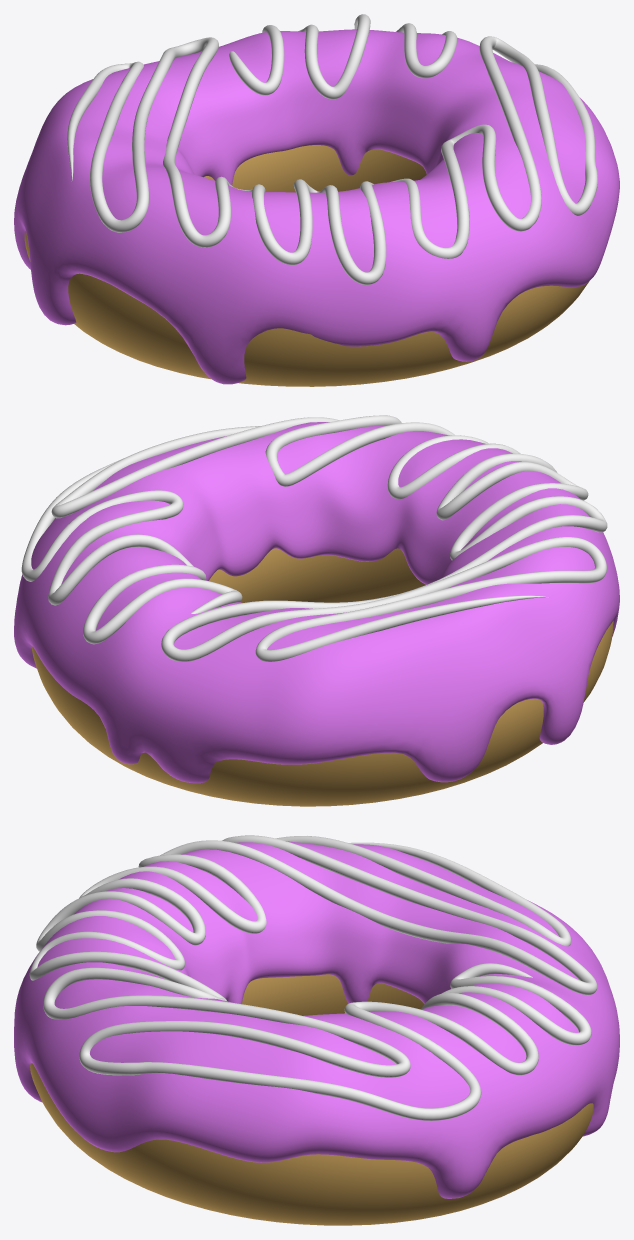
Rendered from doughnut_b4342345.glb.
The picture shows the model from 3 angles, top to bottom: view 1: azimuth 30°, elevation 25°; view 2: azimuth 150°, elevation 25°; view 3: azimuth 270°, elevation 25°; orthographic projection.
Visible parts, largest first — view 1: Object_4, Object_3, Object_2; view 2: Object_4, Object_3, Object_2; view 3: Object_4, Object_3, Object_2.
Part boxes in pixels (x1,y1,x2,y2): Object_4: (14, 29, 619, 384); Object_3: (67, 14, 597, 284); Object_2: (24, 145, 589, 386); Object_4: (14, 422, 619, 783); Object_3: (21, 415, 607, 661); Object_2: (32, 548, 613, 806); Object_4: (14, 841, 619, 1198); Object_3: (29, 835, 597, 1120); Object_2: (30, 974, 593, 1225).
Bounding box in the file's own units: 381 × 144 × 377.
